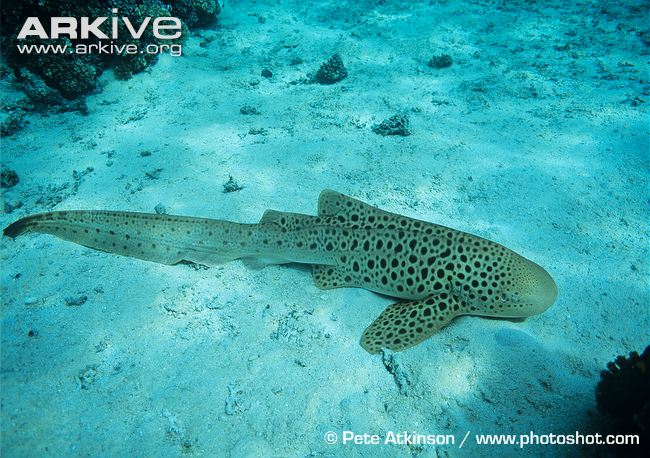shark: (7, 162, 572, 369)
